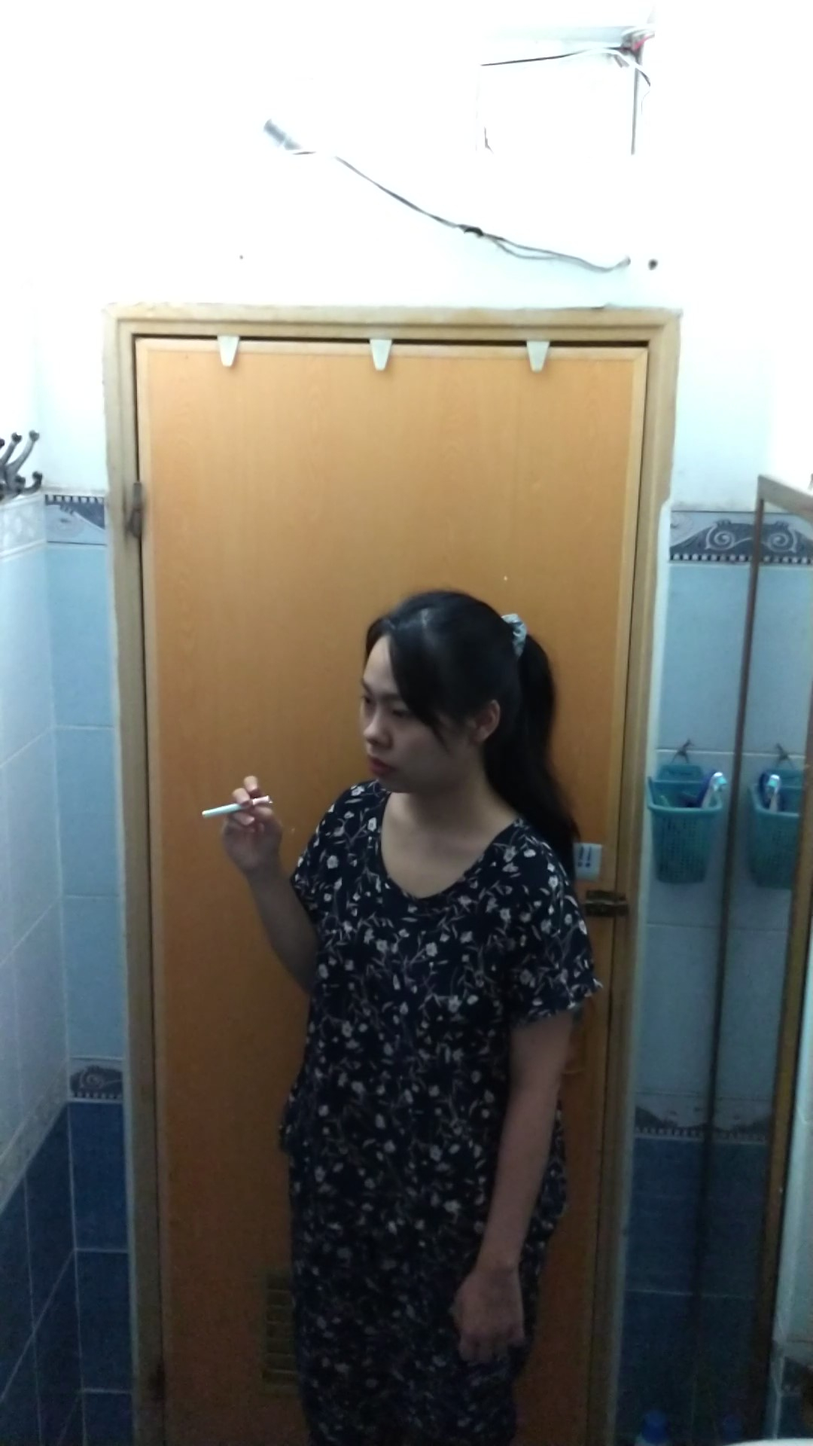cigarette: (197, 800, 239, 823)
person: (206, 581, 612, 1445)
